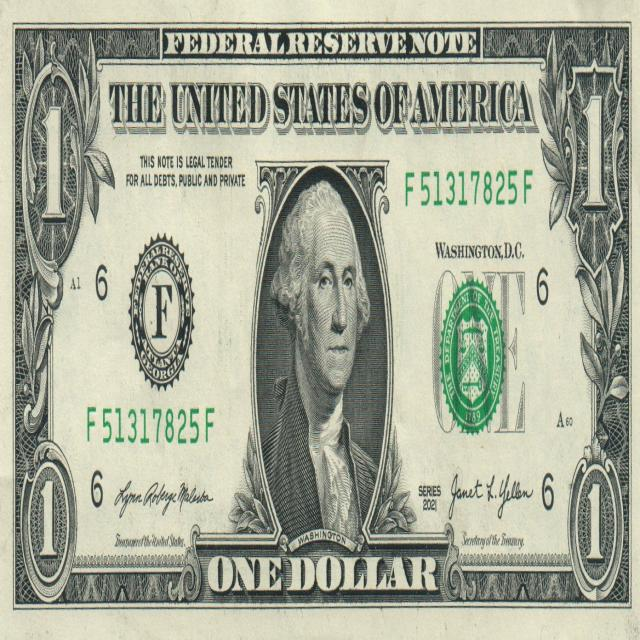SerialNumber: (405, 170, 532, 206), (88, 407, 214, 443)
